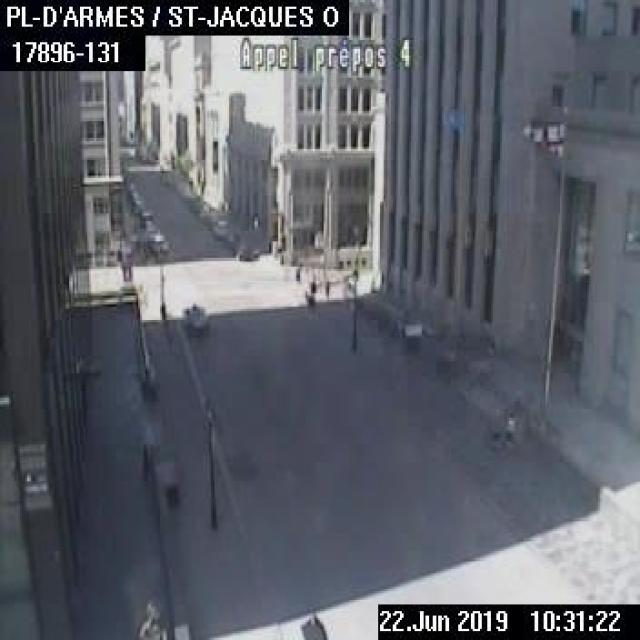vehicle: (180, 302, 207, 334), (232, 238, 257, 260), (150, 232, 168, 252), (211, 218, 228, 236), (144, 227, 159, 244)
